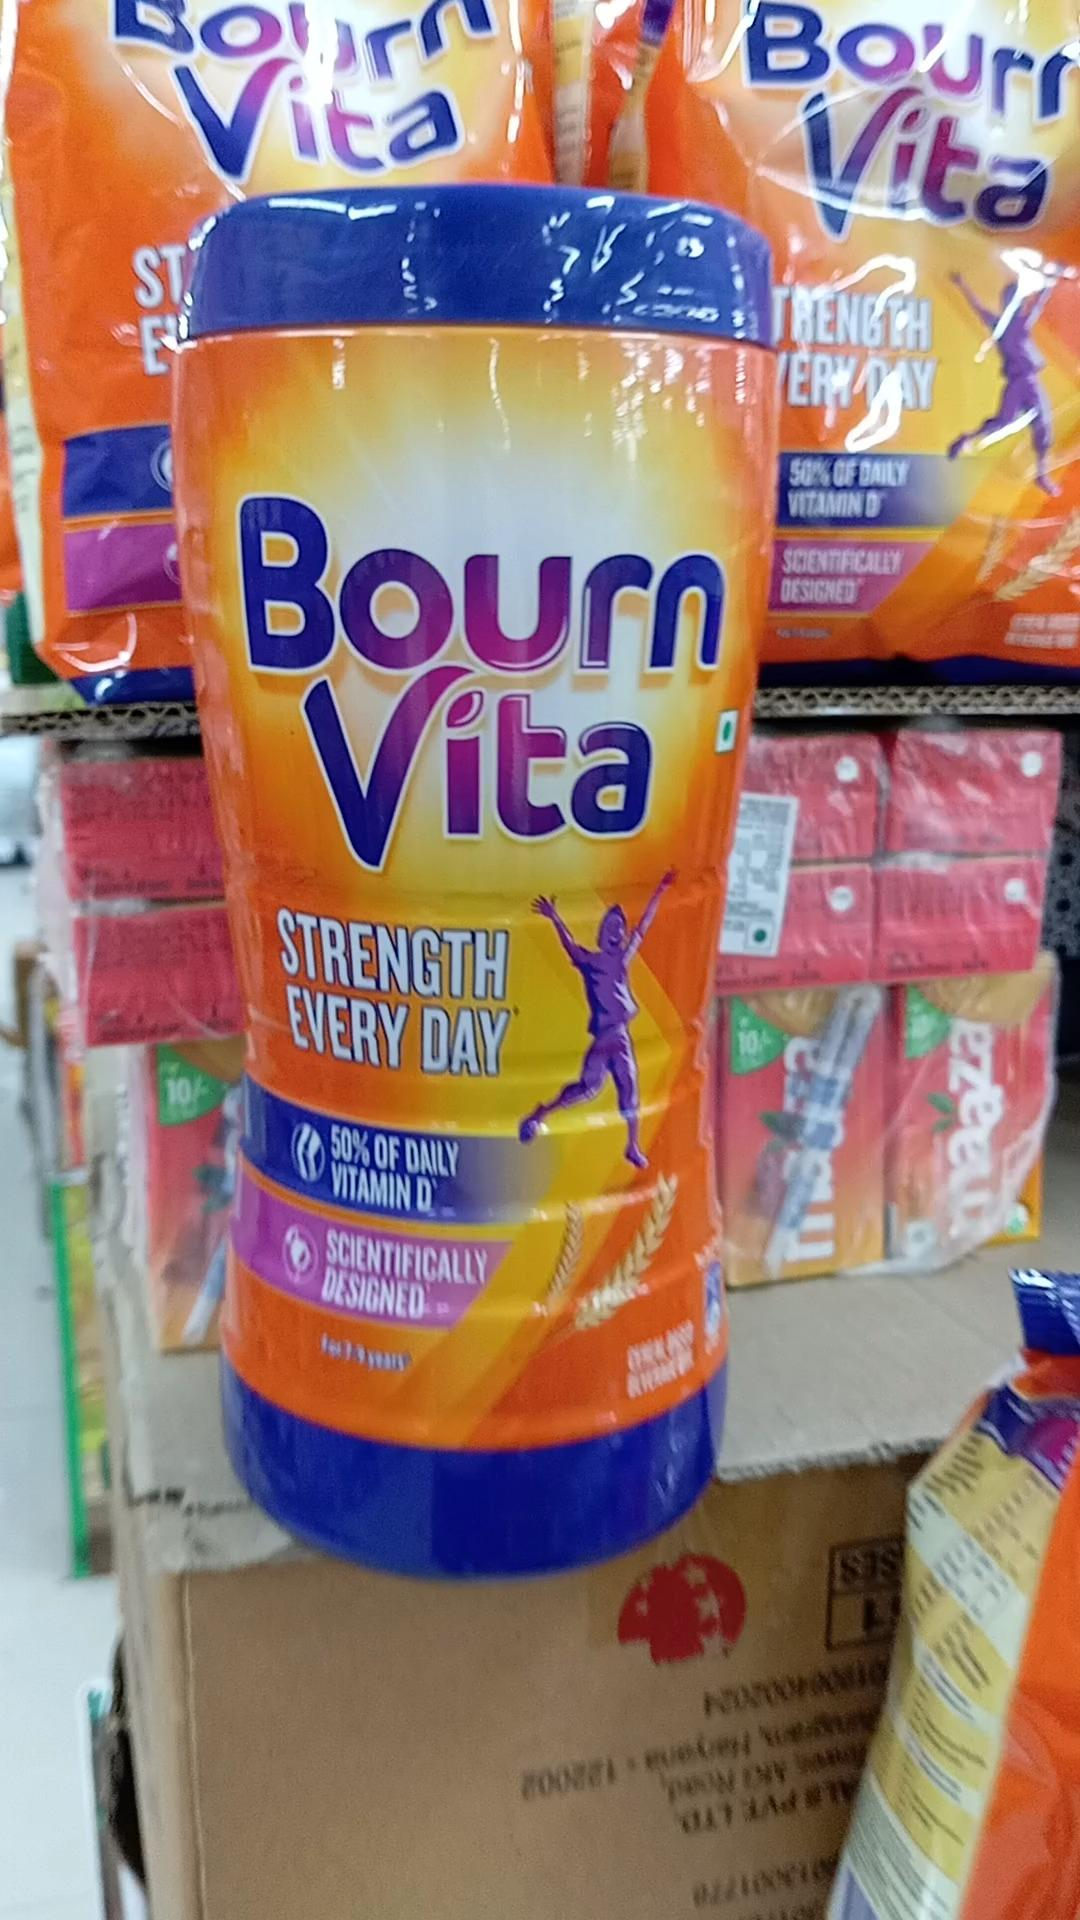BOURN_VITA_1_KG_JAR: (179, 141, 746, 1551)
